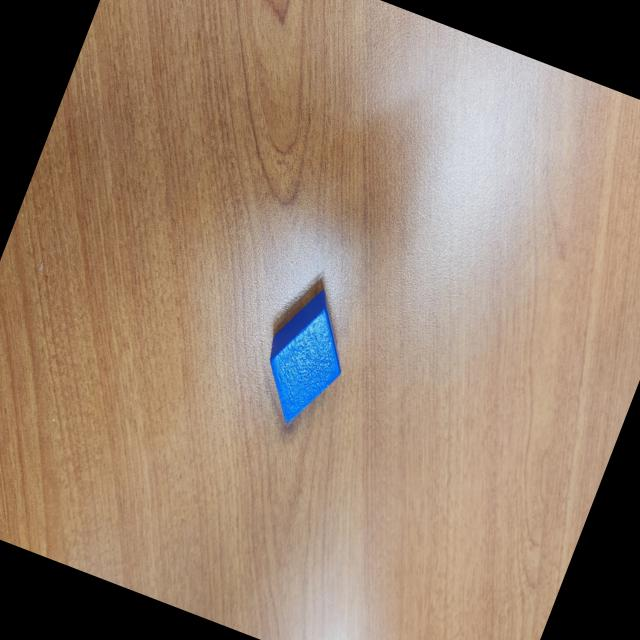blue: (246, 280, 366, 436)
